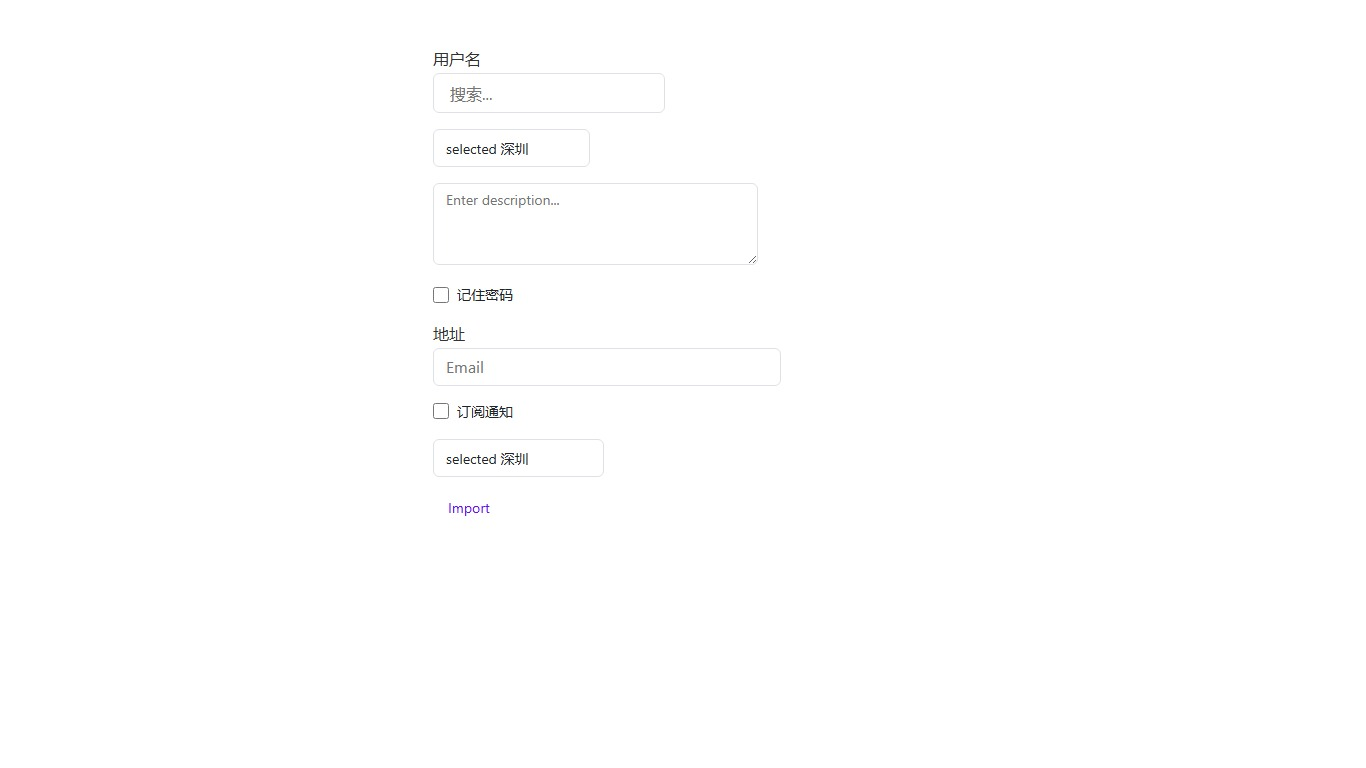button: (433, 493, 505, 523)
checkbox: (433, 287, 449, 303), (433, 403, 449, 419)
icon: (457, 285, 513, 304), (457, 401, 513, 420)
input: (433, 348, 781, 386), (433, 73, 665, 113)
radio: (433, 285, 513, 304), (433, 401, 513, 420)
select: (433, 439, 604, 477), (433, 129, 590, 167)
textarea: (433, 183, 758, 265)
